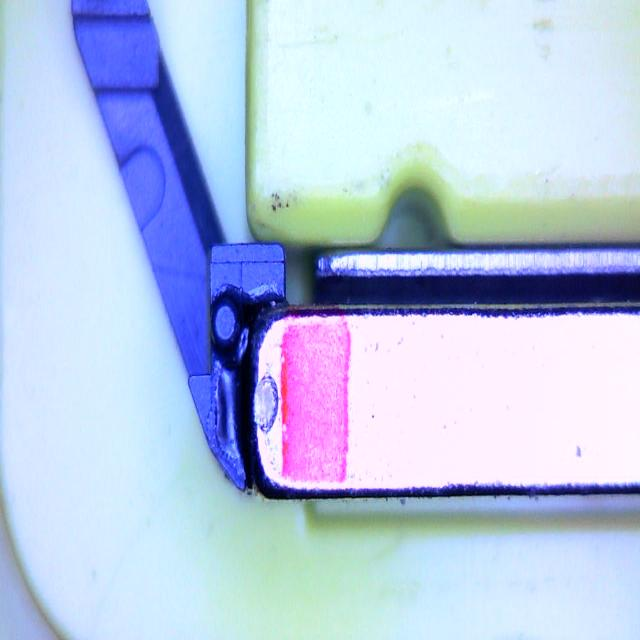over: (215, 360, 251, 460)
